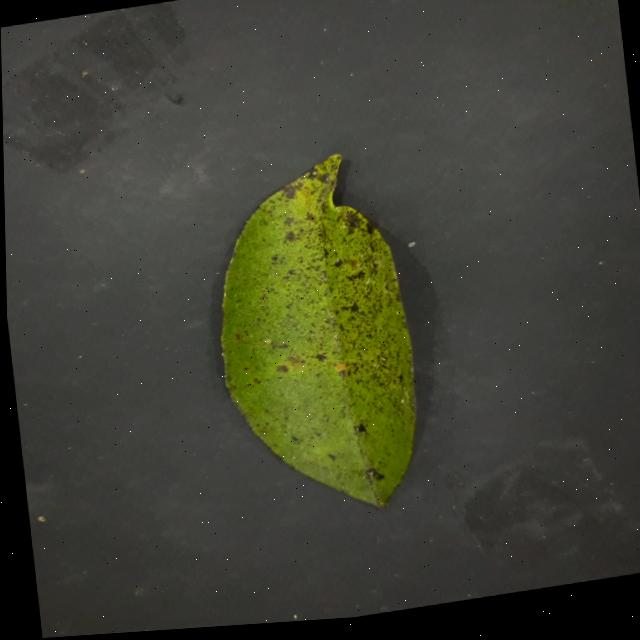greasy_spot: (220, 154, 414, 506)
